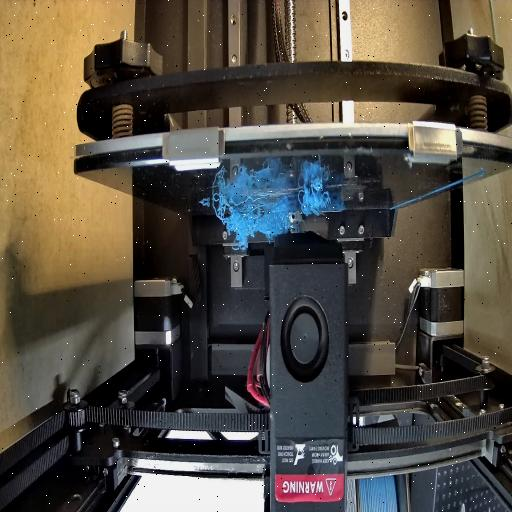spaghetti: (221, 204, 296, 240), (295, 184, 331, 220)
